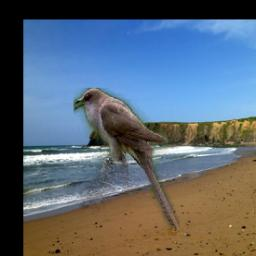Cuckoo: (74, 88, 180, 230)
